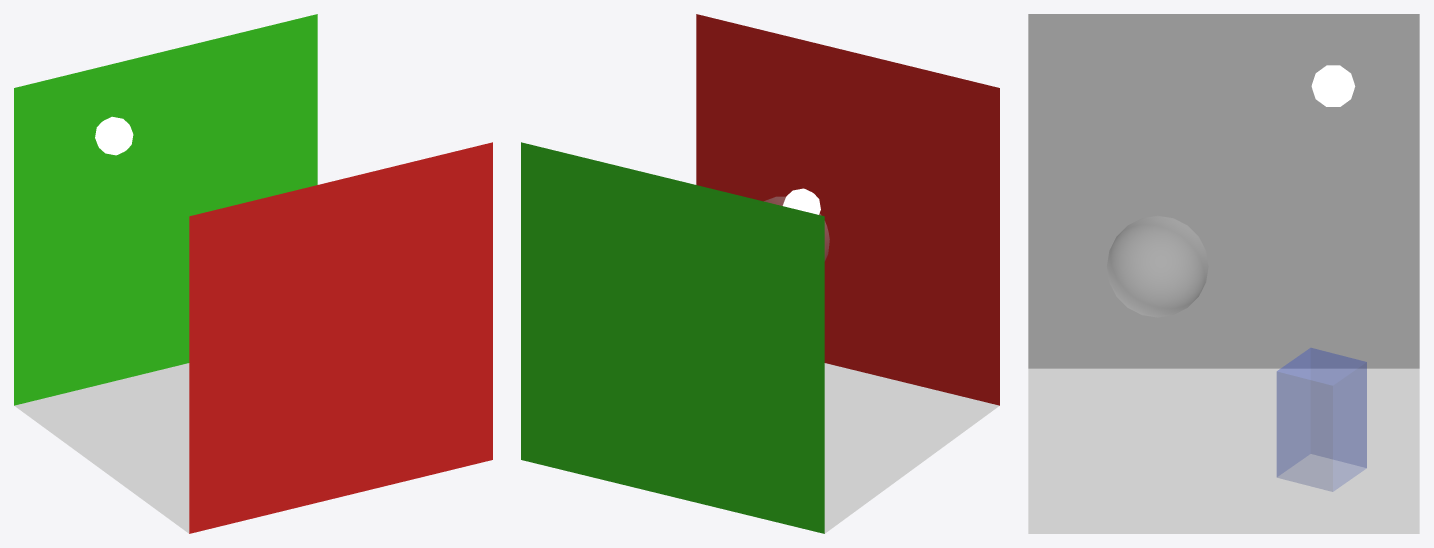
Rendered from glass_test.glb.
3 renders of one model, left to right at view 1: azimuth 30°, elevation 25°; view 2: azimuth 150°, elevation 25°; view 3: azimuth 270°, elevation 25°, orthographic. The views are drawn at different scales.
Visible parts, largest first — view 1: Plane.001, Plane.002, Plane, Icosphere.001; view 2: Plane.002, Plane.001, Plane, Icosphere.001; view 3: Plane, Cube, Icosphere, Icosphere.001.
Part boxes in pixels (x1,y1,x2,y2): Plane.001: (189, 142, 492, 533); Plane.002: (14, 14, 317, 405); Plane: (14, 363, 189, 533); Icosphere.001: (95, 116, 133, 155); Plane.002: (521, 142, 824, 533); Plane.001: (696, 14, 999, 405); Plane: (824, 363, 999, 533); Icosphere.001: (782, 188, 820, 214); Plane: (1028, 14, 1419, 533); Cube: (1277, 348, 1366, 491); Icosphere: (1107, 216, 1208, 317); Icosphere.001: (1311, 65, 1355, 106).
Size of the model in its own units: 4 by 4 by 4.
